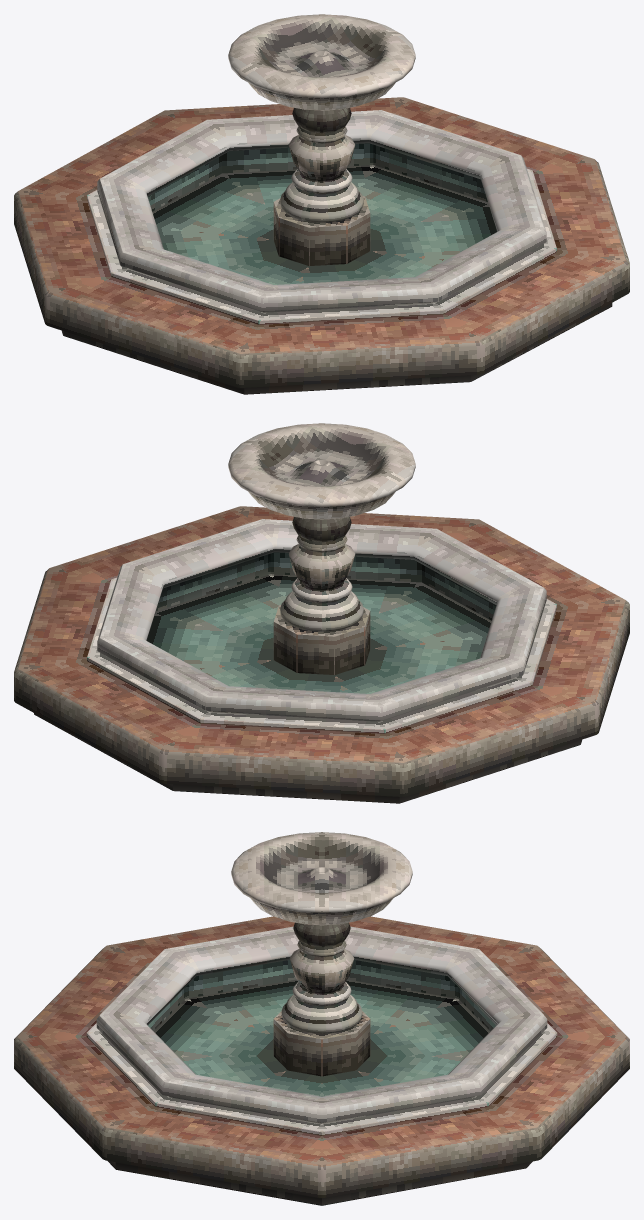
The model's file is fuente.obj.
3 renders of one model, top to bottom at view 1: azimuth 30°, elevation 25°; view 2: azimuth 150°, elevation 25°; view 3: azimuth 270°, elevation 25°, orthographic. The views are drawn at different scales.
Parts seen in each view (by area): view 1: fountain; view 2: fountain; view 3: fountain.
Part boxes in pixels (<box>): fountain: <box>14,14,629,394</box>; fountain: <box>14,423,629,803</box>; fountain: <box>14,832,629,1205</box>.
Size of the model in its own units: 1.84 by 0.7187 by 1.84.
Materials: 1 (1 with a texture image).
